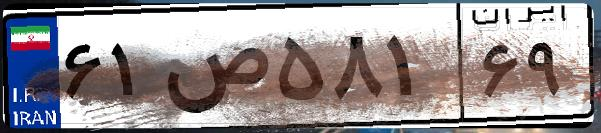1: (385, 28, 445, 110), (110, 28, 158, 98)
5: (270, 28, 330, 110)
6: (57, 26, 110, 100), (475, 38, 525, 113)
8: (330, 28, 385, 110)
9: (525, 38, 570, 115)
ص: (158, 20, 270, 120)
